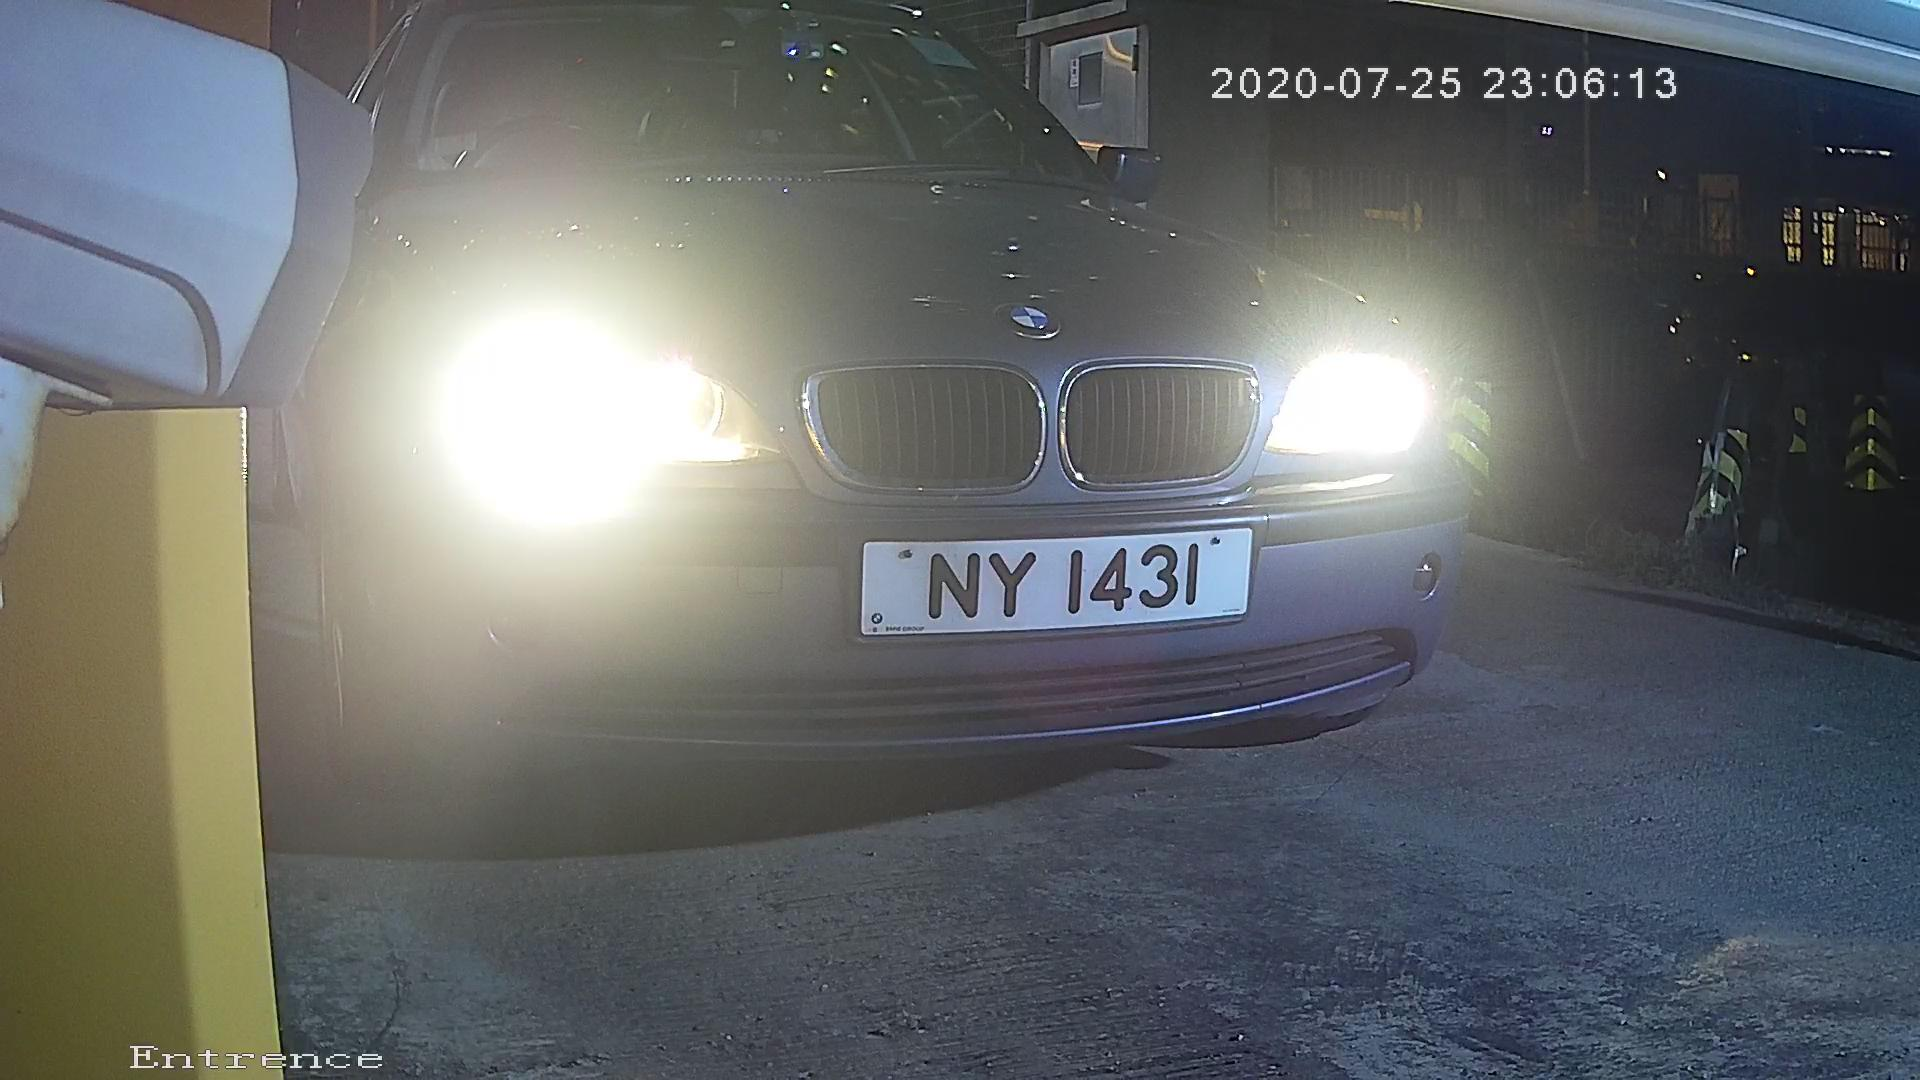License Plate: (823, 507, 1278, 651)
